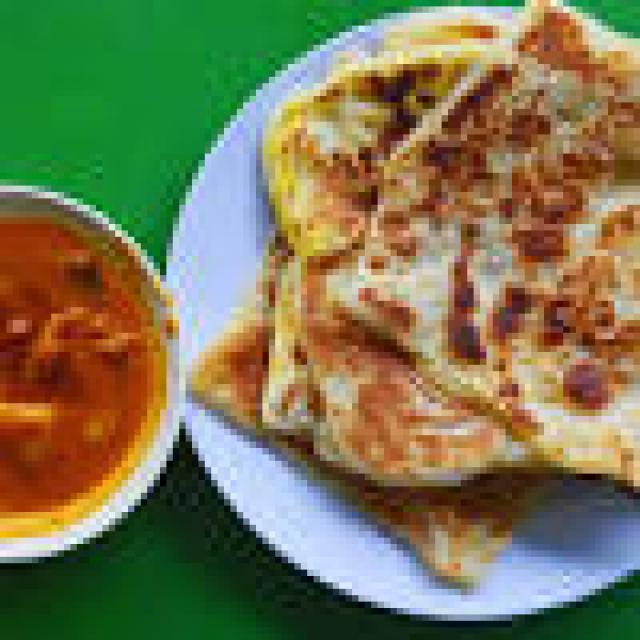Paratha: (191, 0, 640, 594)
